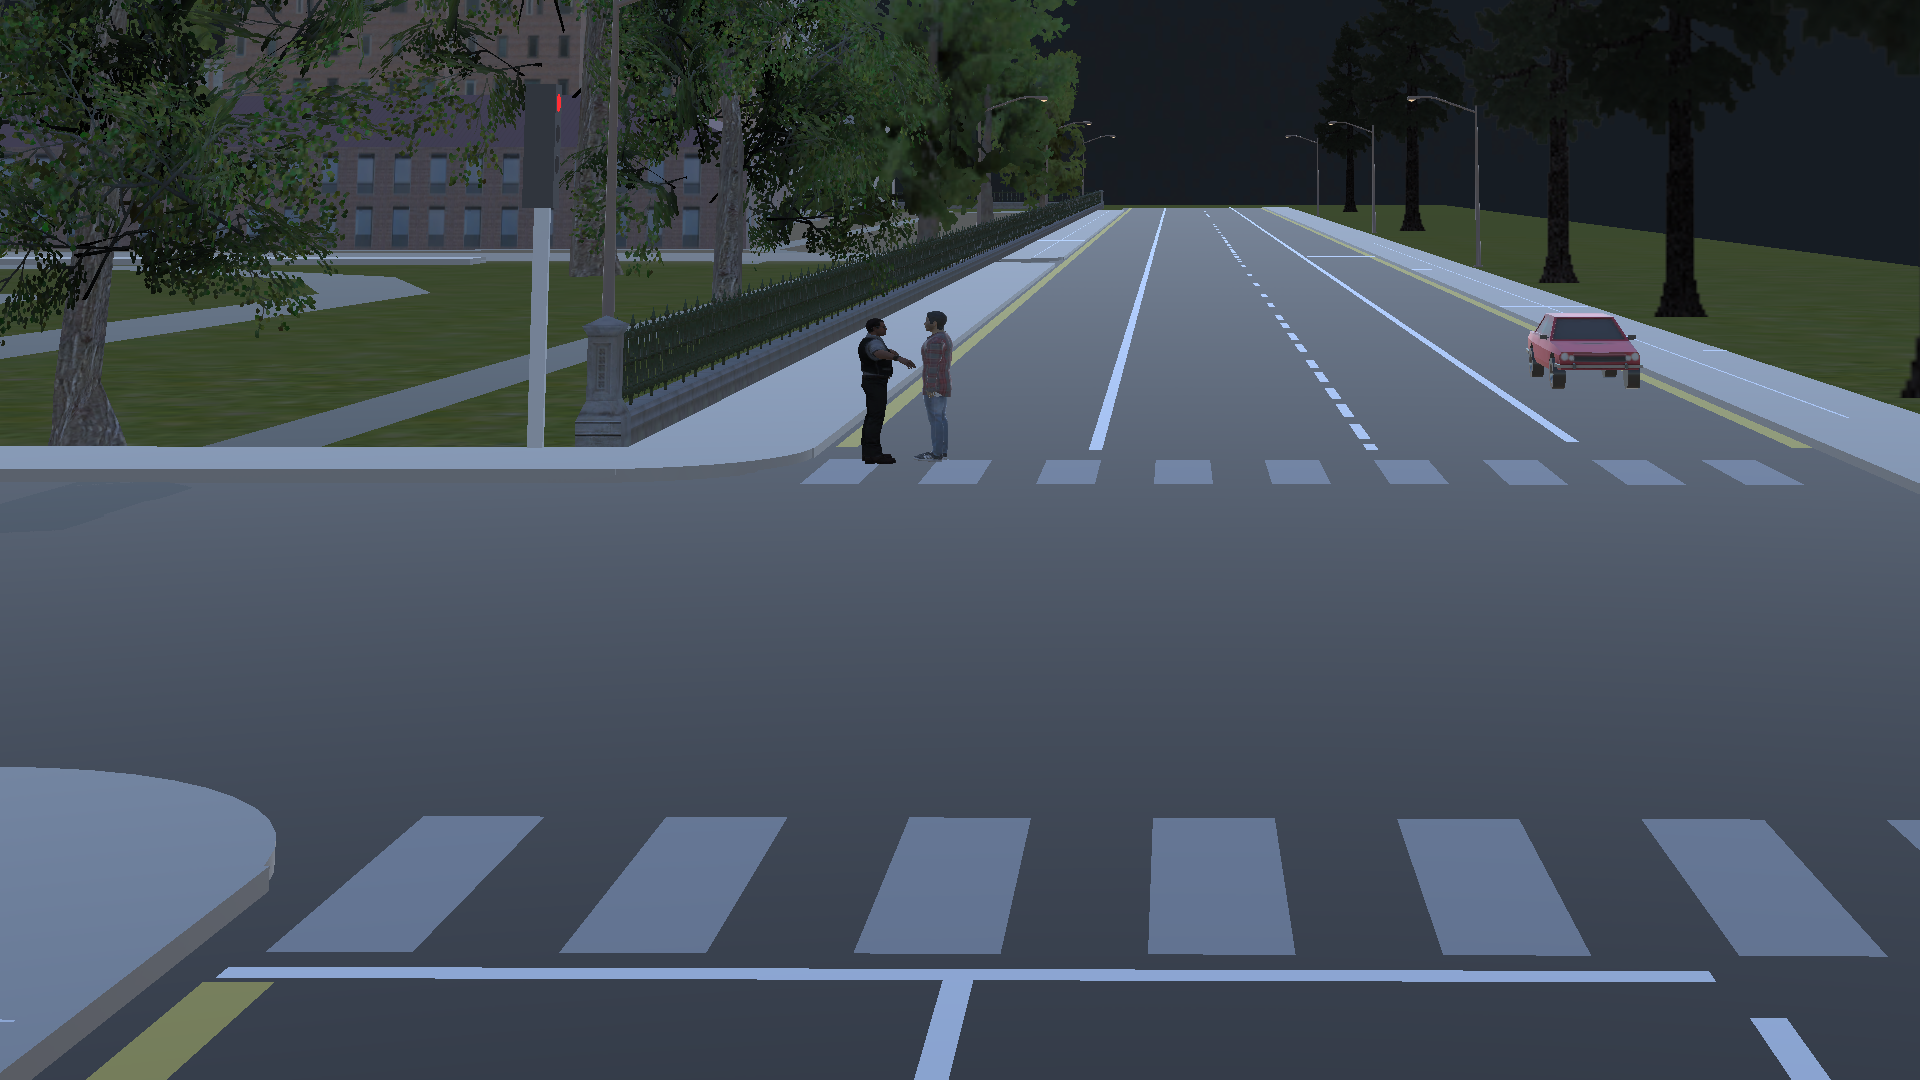pedestrian: (844, 303, 911, 469), (912, 318, 969, 468)
